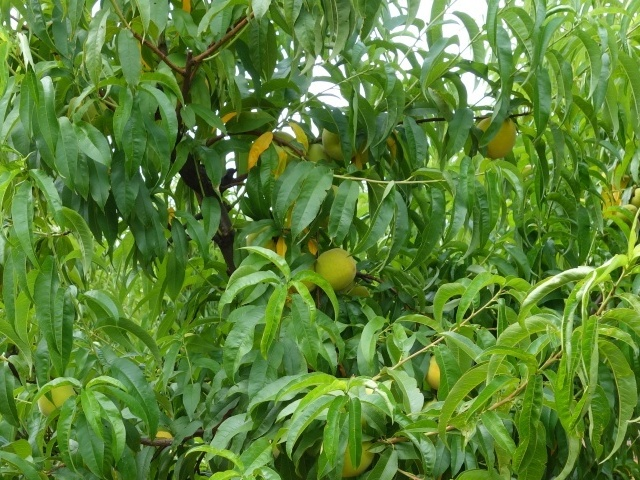peach: (33, 373, 86, 417), (333, 428, 375, 480), (313, 245, 359, 292), (477, 115, 519, 161), (313, 116, 353, 163), (303, 138, 337, 174)
